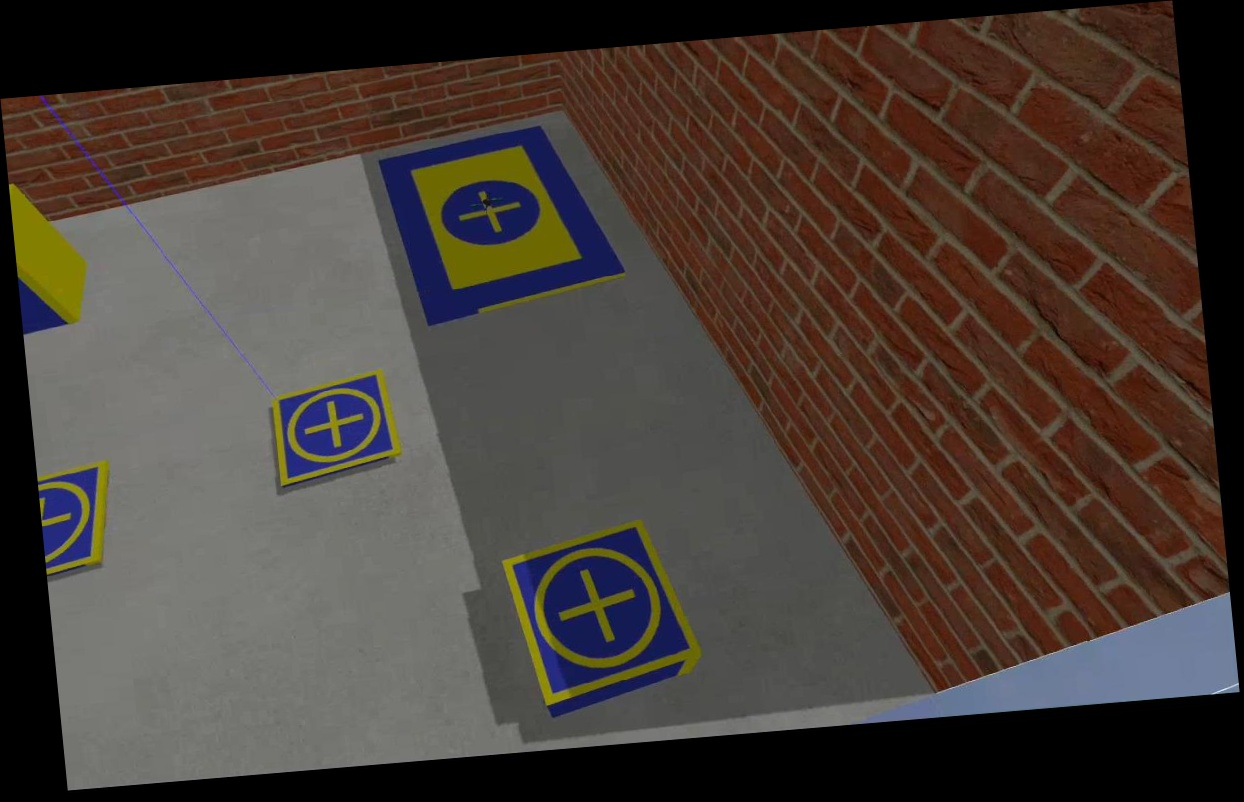large_base: (375, 119, 633, 330)
small_base: (496, 519, 705, 708), (262, 367, 403, 489), (36, 462, 120, 574)
